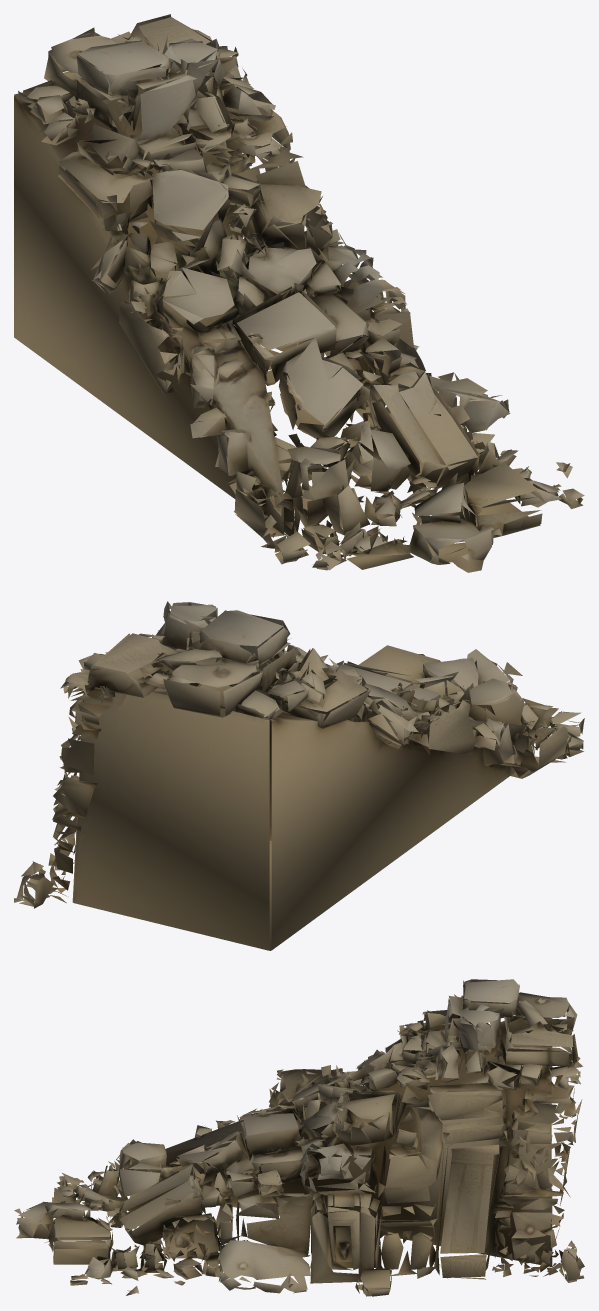
Rendered from fin_rockfall_rubble_slope_LOD2.glb.
3 renders of one model, top to bottom at view 1: azimuth 30°, elevation 25°; view 2: azimuth 150°, elevation 25°; view 3: azimuth 270°, elevation 25°, orthographic. The views are drawn at different scales.
Visible parts, largest first — view 1: tripo_node_8024f827-60a6-4286-b321-2efb5a994bcf; view 2: tripo_node_8024f827-60a6-4286-b321-2efb5a994bcf; view 3: tripo_node_8024f827-60a6-4286-b321-2efb5a994bcf.
Boxes of the visible parts, left/top/right/bottom form: tripo_node_8024f827-60a6-4286-b321-2efb5a994bcf: left=14, top=14, right=584, bottom=572; tripo_node_8024f827-60a6-4286-b321-2efb5a994bcf: left=14, top=601, right=584, bottom=950; tripo_node_8024f827-60a6-4286-b321-2efb5a994bcf: left=14, top=979, right=584, bottom=1296.
Size of the model in its own units: 0.5053 by 0.4528 by 1.01.
1 material, 1 textured.
